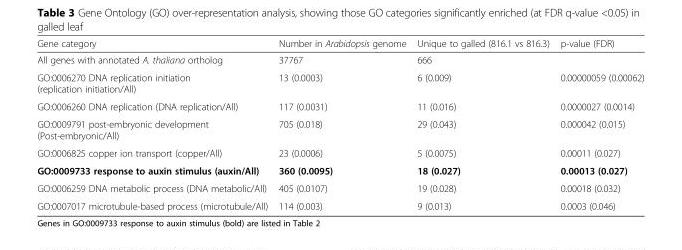table: (36, 37, 643, 211)
table column: (36, 37, 272, 211), (410, 37, 554, 211), (272, 37, 410, 211), (554, 37, 643, 211)
table column header: (36, 37, 643, 51)
table row: (36, 68, 643, 97), (36, 114, 643, 143), (36, 143, 643, 161), (36, 161, 643, 179), (36, 51, 643, 68), (36, 97, 643, 114), (36, 179, 643, 196), (36, 196, 643, 211), (36, 37, 643, 51)
